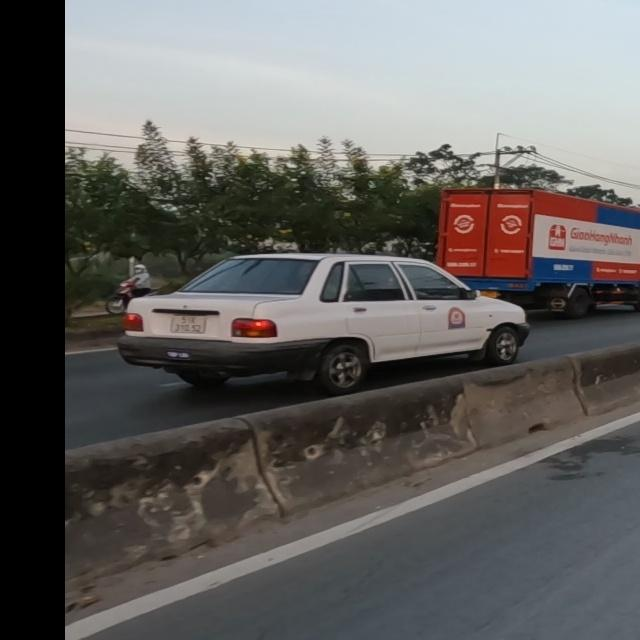license-plate: (169, 314, 206, 334)
